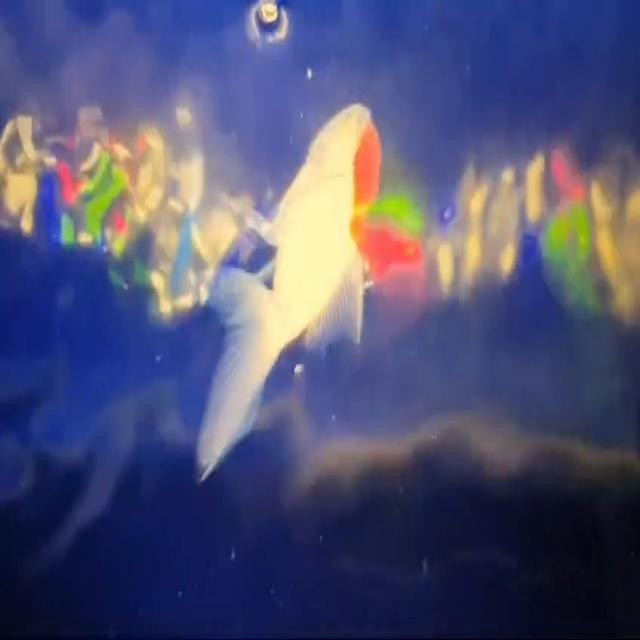fish: (193, 84, 389, 492)
